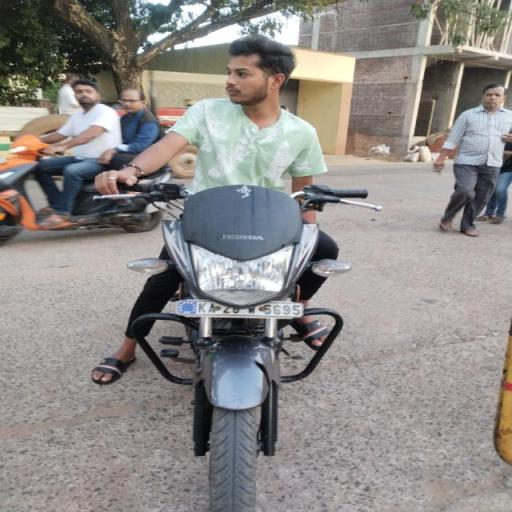bike: (80, 33, 389, 512)
numberplate: (180, 300, 306, 318)
withouthelmet: (226, 41, 290, 104)
